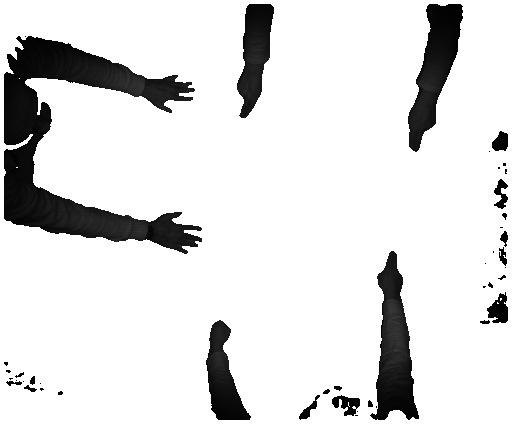fist: (208, 320, 231, 346)
hand: (155, 210, 207, 255), (149, 73, 199, 119), (408, 103, 439, 151), (232, 72, 263, 119), (376, 248, 407, 295)
